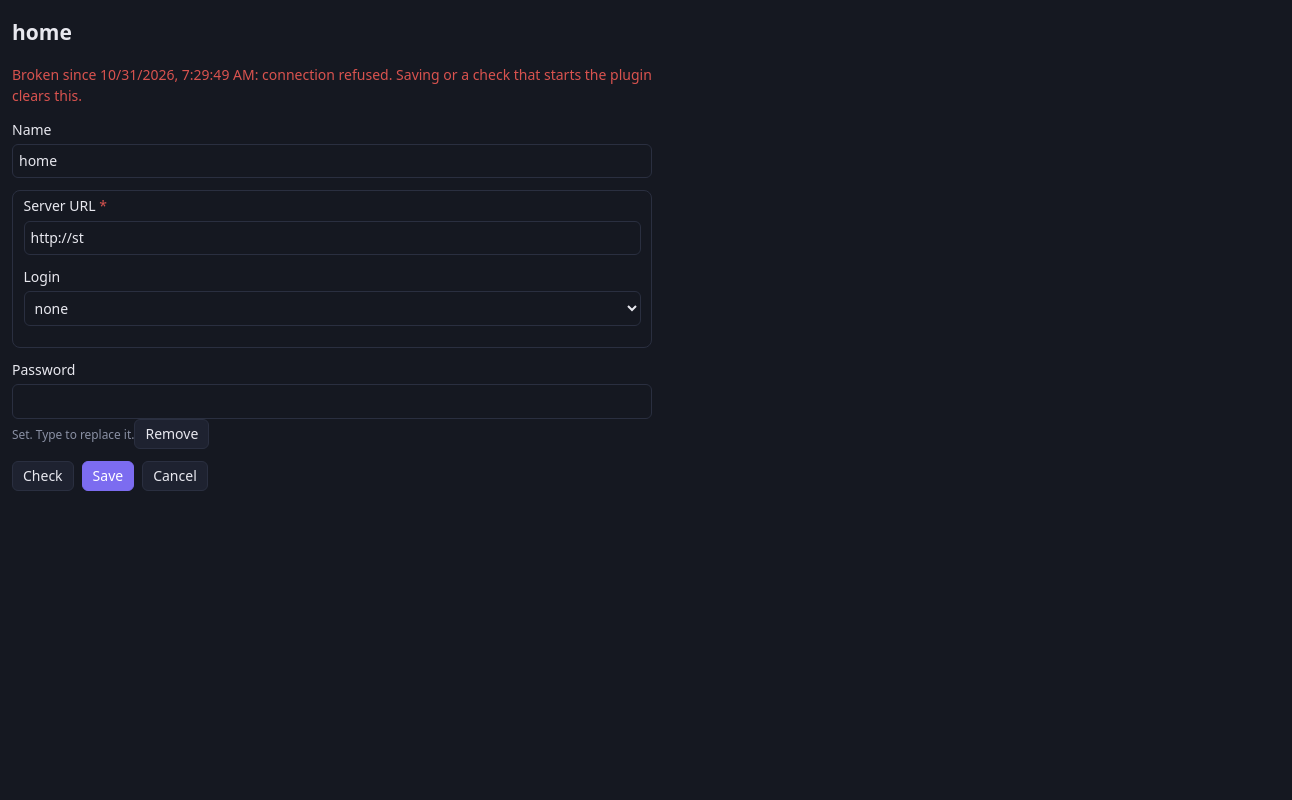
saving an instance stays on its page and clears the unsaved bar
Check: the text "Unsaved changes" is not shown
Replace the text in the field labelled "Server URL" with "http://other" at (332, 238), box [24, 221, 640, 255]
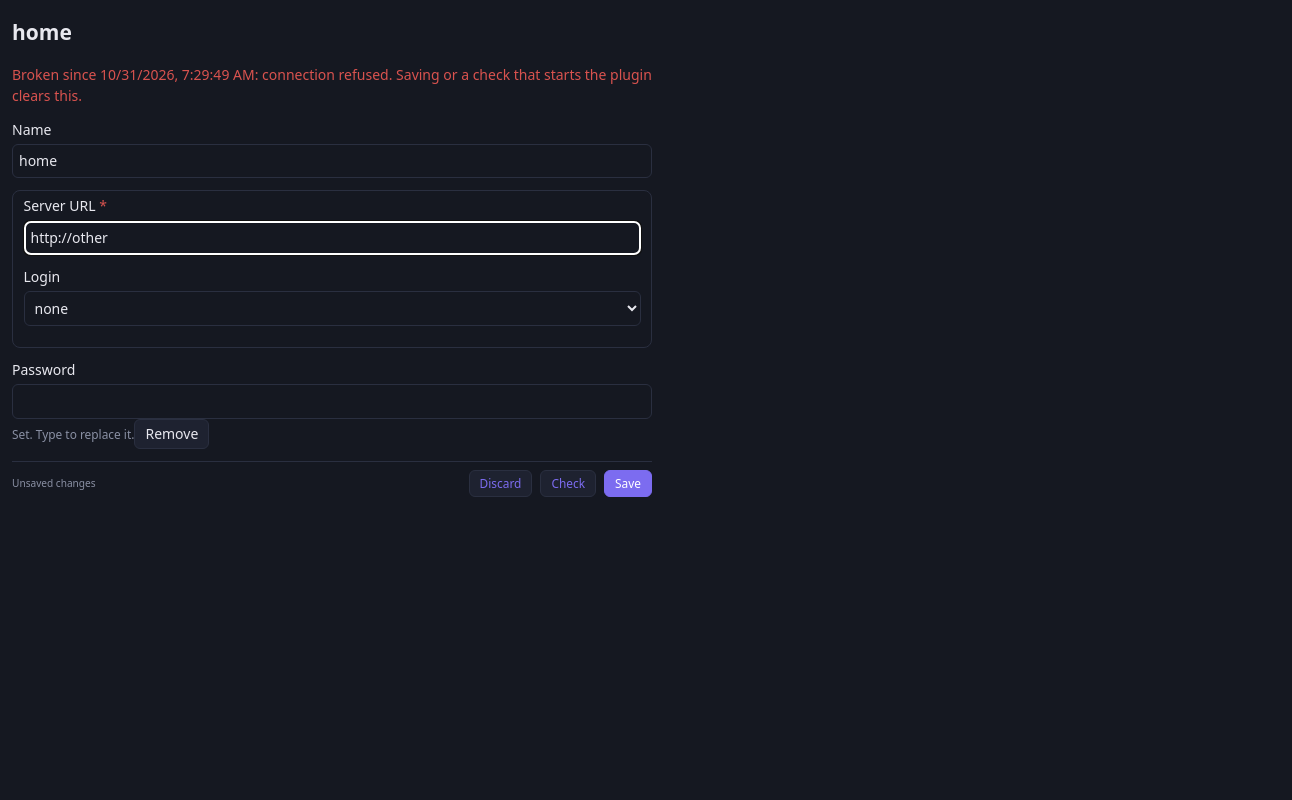
Check: the text "Unsaved changes" is shown, box [12, 476, 96, 491]
Click the button "Save".
click(628, 484)  # box [604, 470, 652, 497]
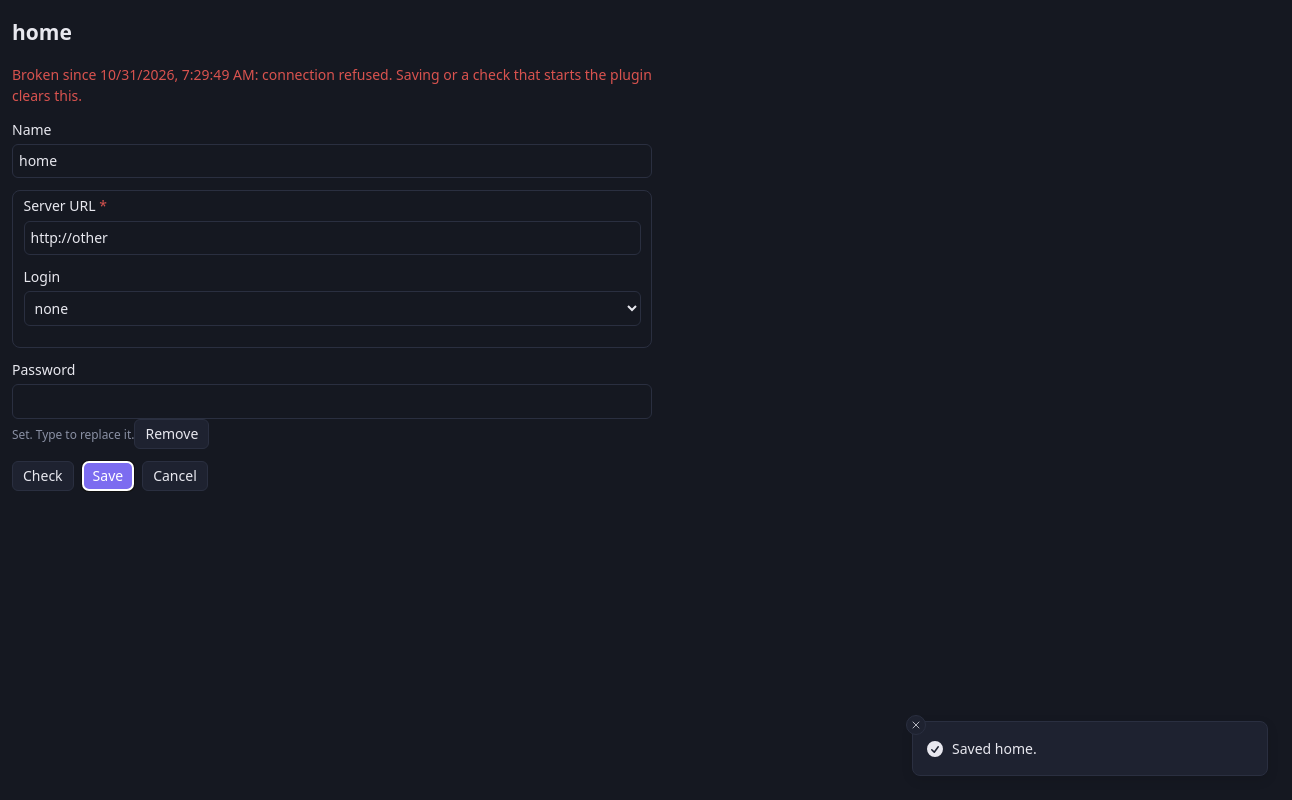
Check: the text "Saved home." is shown, box [952, 738, 1037, 759]
Check: the text "Unsaved changes" is gone
